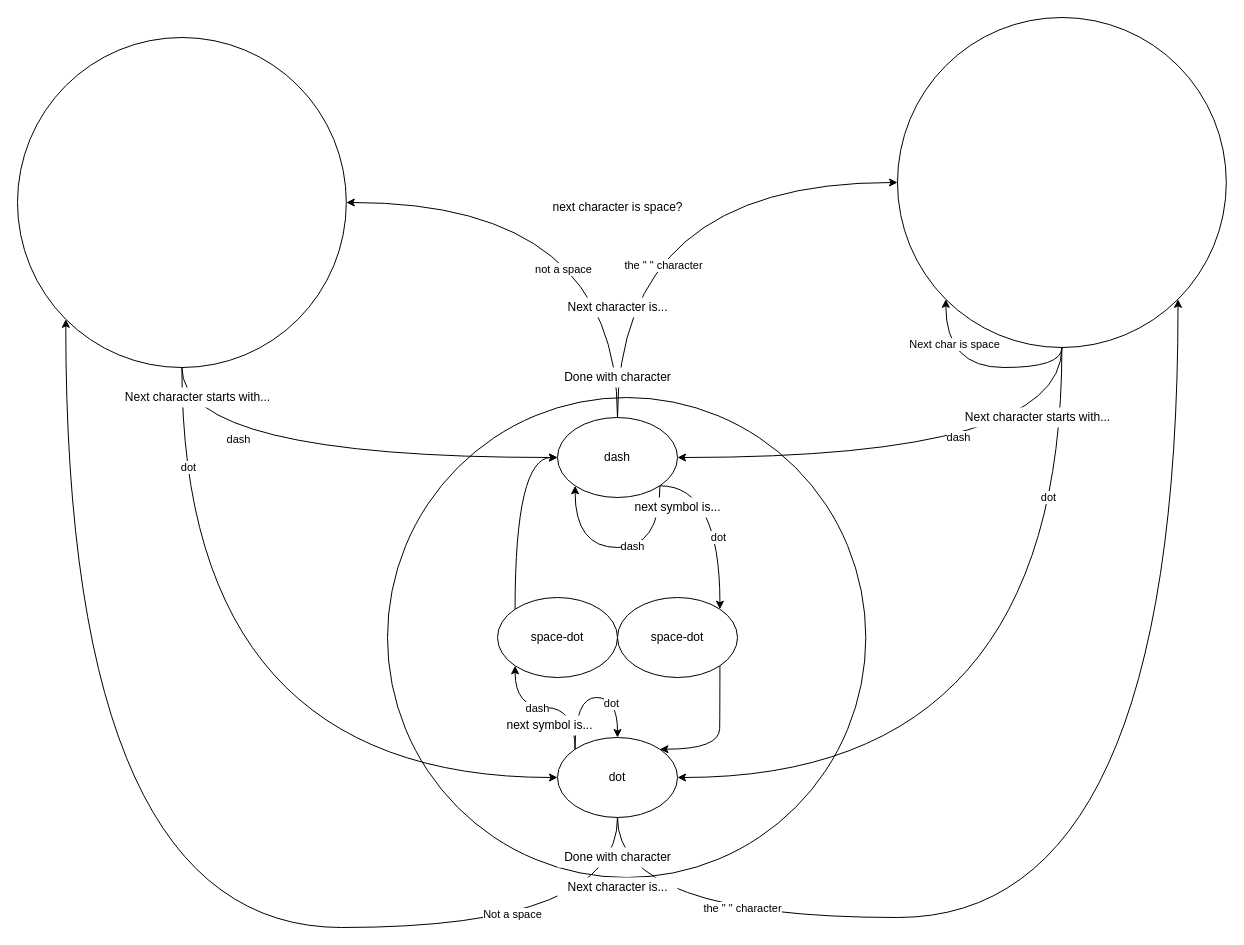
The diagram is 1244 pixels wide and 945 high, and some of its shapes have lost their labels. The shapes that lost their labels are listed below. From the top down, each one's centre as x and y in pixels, then its label:
At [181,202]: "space-dash".
At [1061,182]: "word space".
